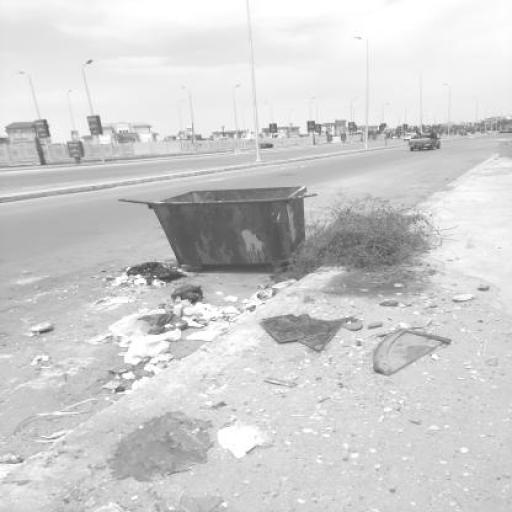street light: (17, 71, 53, 163), (80, 59, 106, 161), (354, 37, 370, 150), (179, 86, 198, 154), (68, 90, 81, 160), (231, 85, 242, 151), (442, 84, 451, 140), (309, 97, 316, 146)
